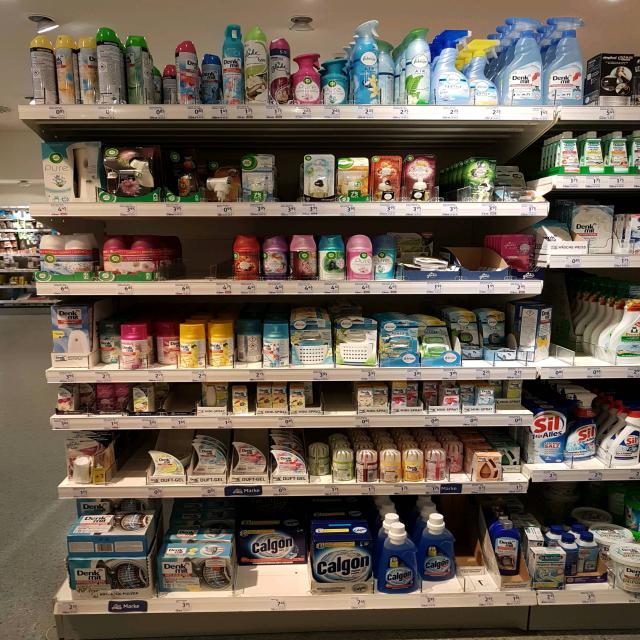unorganised: (237, 535, 309, 592), (529, 397, 568, 468), (568, 396, 602, 468), (424, 526, 459, 594), (122, 30, 150, 107), (25, 37, 55, 108), (97, 28, 122, 105), (577, 203, 615, 253), (495, 524, 525, 582), (174, 43, 198, 111), (378, 41, 401, 106), (77, 384, 130, 412), (77, 37, 97, 104), (56, 36, 74, 108), (201, 50, 222, 104), (152, 323, 179, 364), (480, 311, 509, 346), (452, 316, 480, 352), (236, 322, 260, 364), (96, 323, 120, 364), (203, 381, 228, 411), (542, 220, 573, 243), (309, 445, 330, 477), (162, 62, 177, 103), (447, 447, 467, 477), (565, 540, 580, 578), (502, 448, 522, 476), (424, 385, 440, 407), (409, 384, 422, 410), (462, 384, 477, 405), (305, 385, 319, 405), (493, 381, 508, 397)
